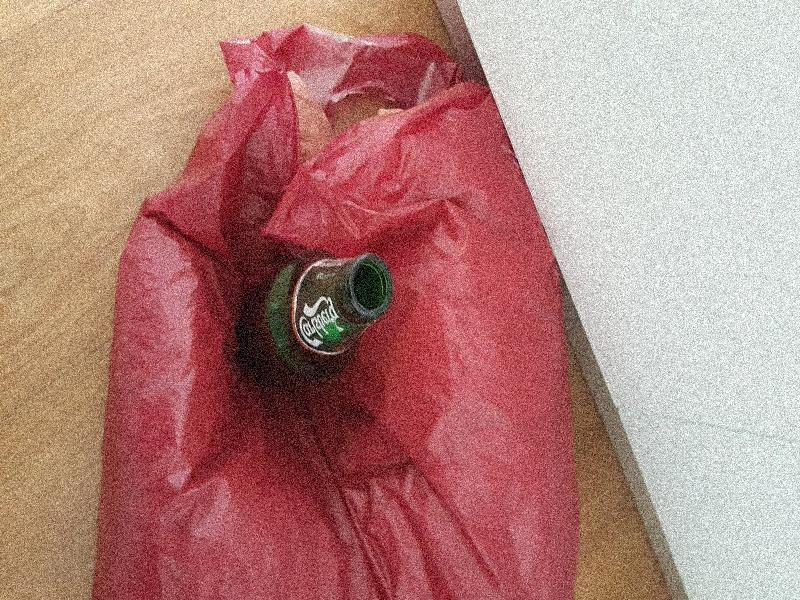Beer: (235, 252, 391, 380)
